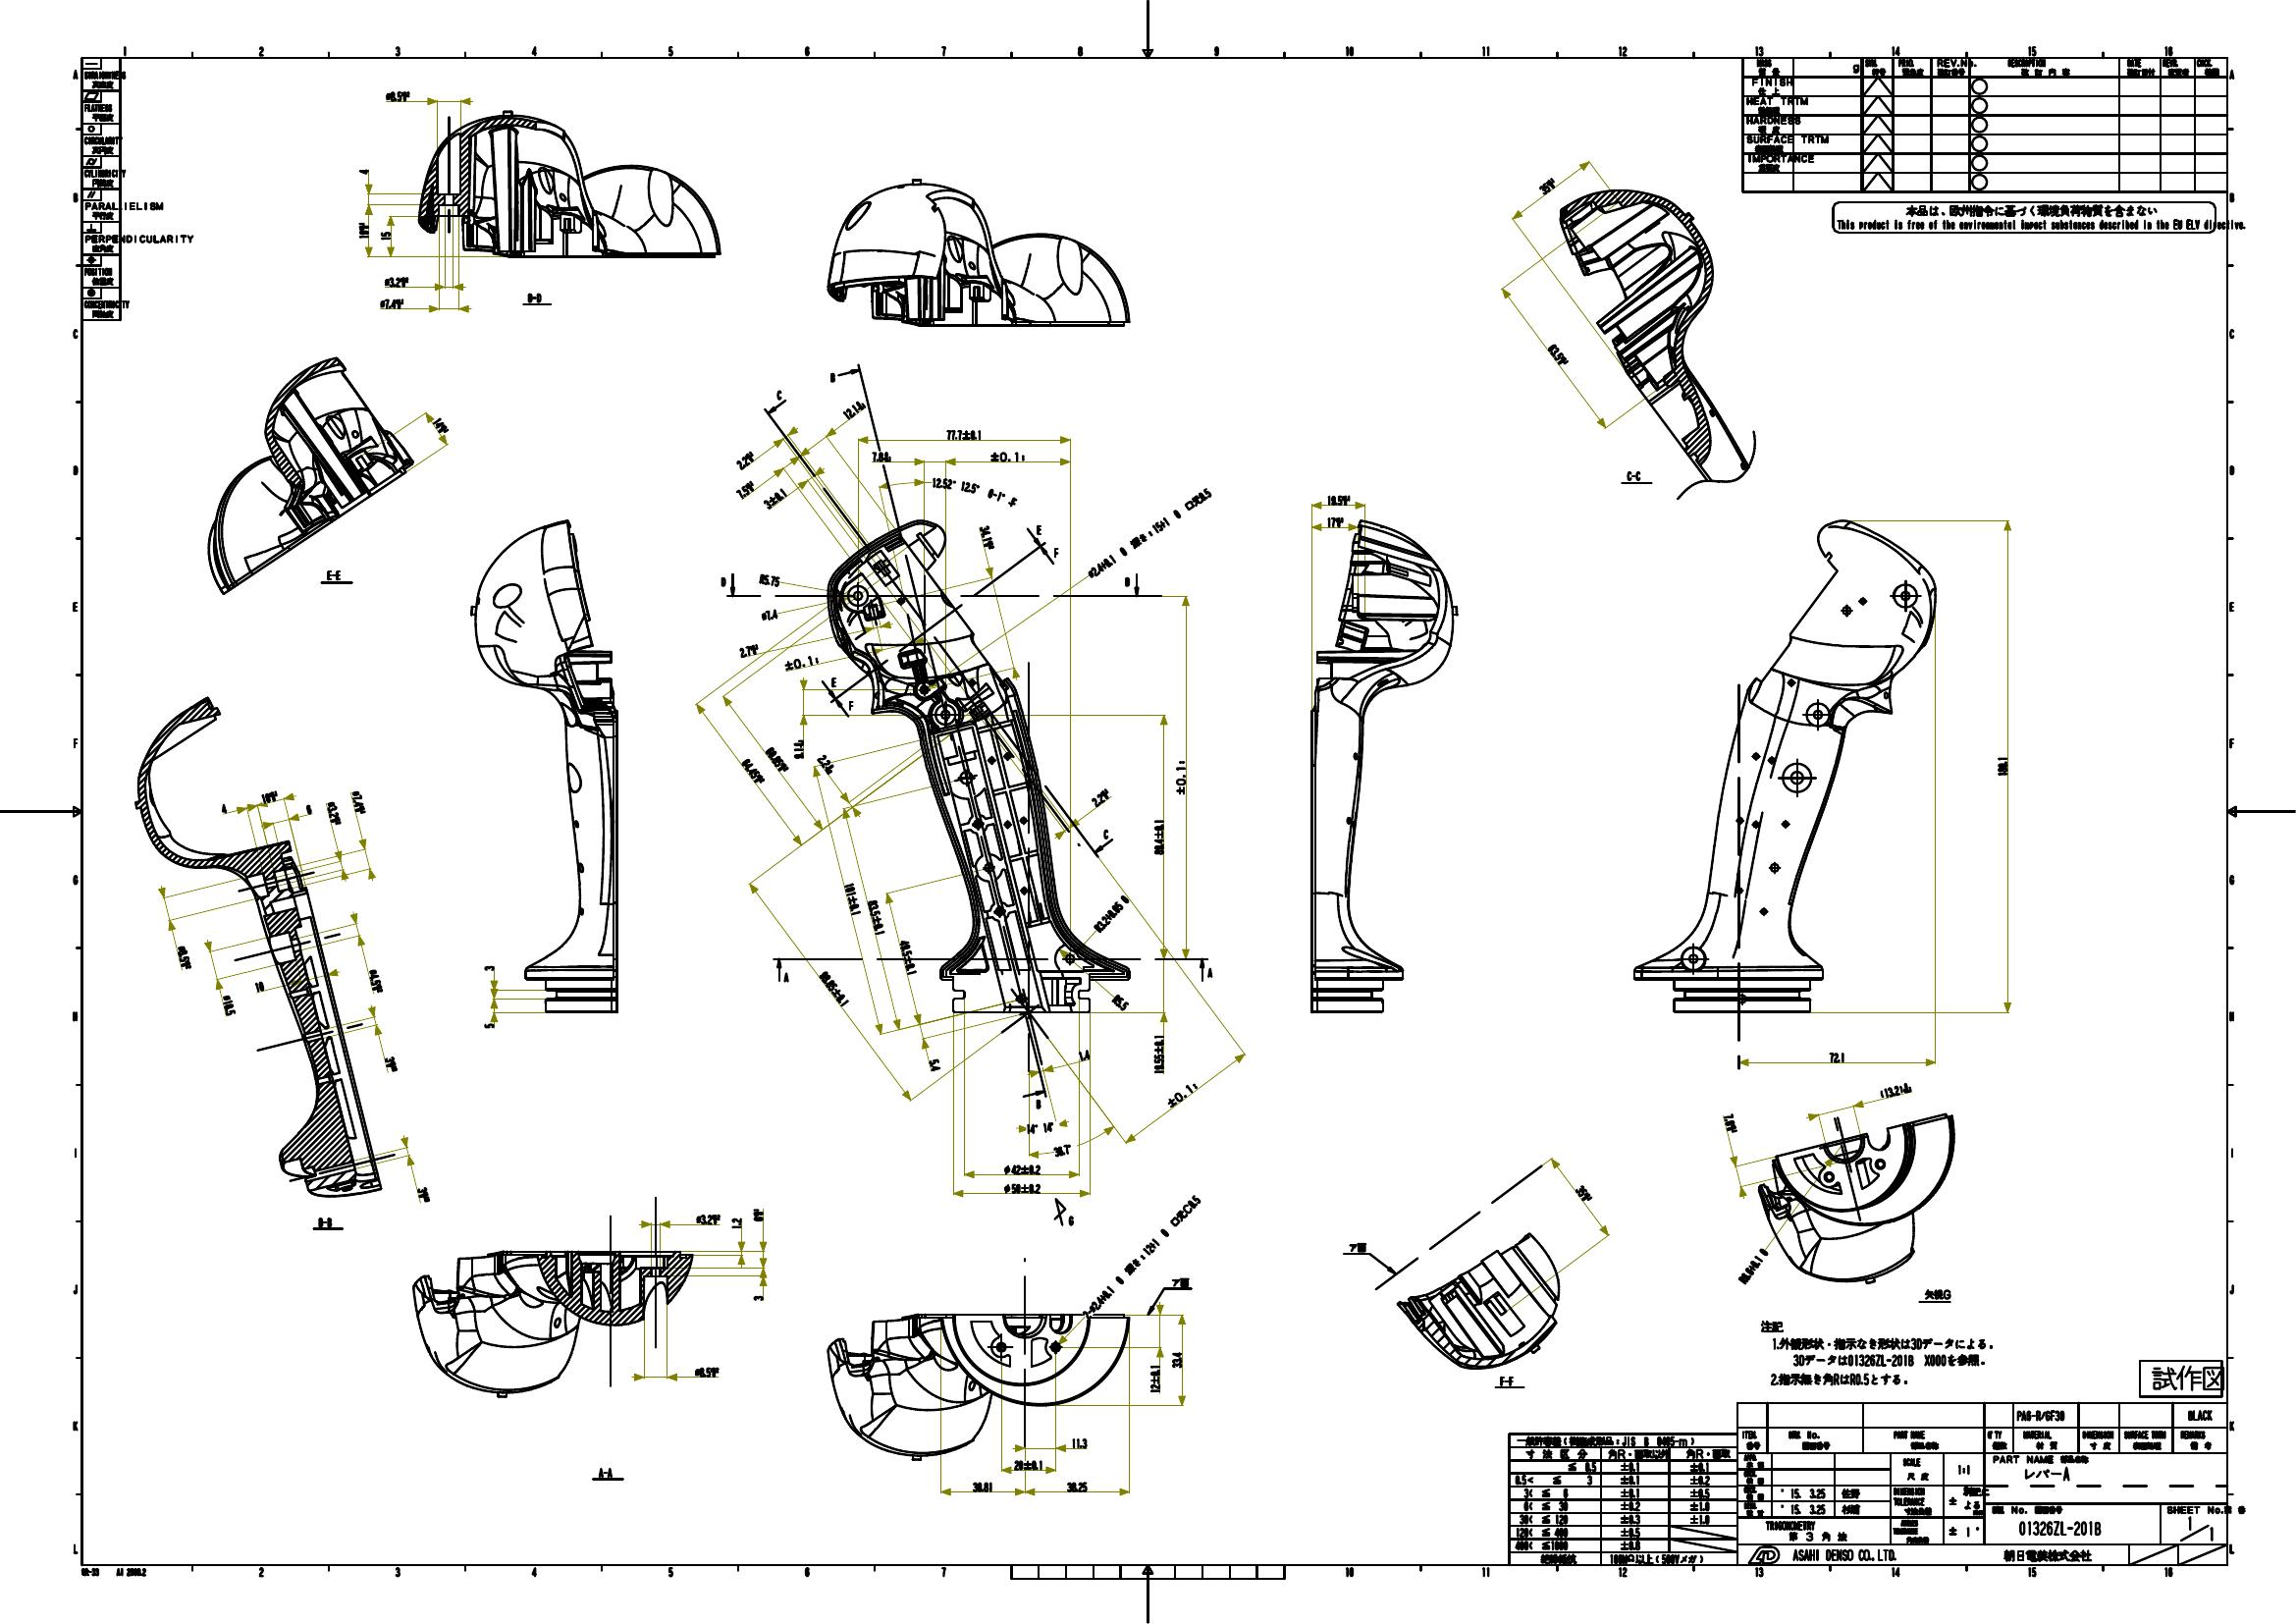anntotation_text: (1757, 1315, 1996, 1394), (1832, 200, 2215, 232), (2140, 1360, 2224, 1397), (79, 1564, 148, 1577), (1924, 1288, 1952, 1299), (523, 290, 546, 302), (314, 1216, 336, 1229), (323, 568, 343, 580), (1623, 469, 1643, 482), (1347, 1241, 1368, 1251), (1170, 1276, 1191, 1287), (597, 1466, 615, 1478), (1497, 1376, 1518, 1385), (717, 575, 729, 589), (1100, 826, 1112, 840), (827, 371, 838, 383), (827, 675, 838, 687), (1036, 522, 1043, 538), (775, 388, 783, 401), (1123, 576, 1131, 589), (845, 698, 854, 710), (1033, 1098, 1042, 1111), (1207, 967, 1214, 981), (782, 972, 791, 982), (1054, 547, 1059, 559)
dimension_text: (1075, 526, 1224, 540), (1058, 1251, 1224, 1262), (929, 482, 1019, 497), (1003, 1160, 1042, 1174), (1151, 816, 1163, 859), (1151, 1032, 1163, 1076), (1087, 907, 1137, 917), (833, 893, 873, 905), (856, 910, 896, 923), (1003, 1181, 1042, 1193), (1173, 759, 1186, 798), (1163, 1086, 1200, 1098), (989, 450, 1026, 462), (783, 656, 820, 668), (887, 951, 929, 961), (1874, 1084, 1917, 1095), (808, 984, 856, 993), (761, 752, 794, 765), (1730, 1262, 1776, 1271), (945, 429, 982, 439), (385, 88, 411, 102), (1325, 492, 1351, 506), (980, 524, 994, 550), (736, 765, 769, 775), (1546, 348, 1574, 360), (1063, 1480, 1091, 1492), (696, 1213, 722, 1225), (223, 993, 235, 1019), (1026, 1123, 1056, 1134), (1014, 1459, 1043, 1469), (1723, 1109, 1736, 1134), (179, 942, 190, 970), (353, 789, 364, 817), (761, 492, 789, 503), (840, 404, 868, 415), (383, 276, 409, 286), (378, 297, 404, 308), (371, 967, 381, 993), (329, 800, 339, 826), (1070, 1436, 1089, 1450), (761, 573, 780, 587), (1149, 1364, 1158, 1394), (1051, 1144, 1072, 1156), (430, 420, 451, 432), (1996, 756, 2008, 777), (1572, 1186, 1593, 1199), (733, 455, 757, 466), (694, 1367, 722, 1376), (416, 1185, 430, 1202), (1535, 181, 1558, 192), (970, 1480, 993, 1490), (734, 483, 757, 494), (792, 740, 805, 759), (1087, 793, 1114, 801), (815, 759, 836, 770), (1827, 1051, 1846, 1062), (871, 450, 891, 460), (738, 647, 761, 656), (1112, 998, 1130, 1009), (262, 791, 279, 801), (759, 612, 780, 620), (385, 1056, 397, 1070), (1325, 517, 1344, 526), (1172, 1350, 1180, 1369), (926, 1058, 942, 1069), (357, 221, 367, 237), (255, 979, 265, 995), (752, 1207, 762, 1222), (1079, 1049, 1091, 1060), (731, 1218, 743, 1229), (220, 801, 230, 814), (355, 165, 369, 174), (1066, 1216, 1077, 1227), (379, 230, 390, 241), (754, 1292, 764, 1302), (304, 805, 314, 816), (483, 965, 495, 972), (481, 1023, 495, 1028)
object: (1632, 520, 1936, 1012), (827, 518, 1130, 1012), (135, 696, 383, 1195), (1309, 518, 1458, 1012), (471, 518, 617, 1012), (1558, 190, 1755, 499), (207, 357, 413, 596), (827, 178, 1130, 327), (827, 1313, 1130, 1461), (418, 111, 720, 257), (413, 1250, 694, 1396), (1757, 1111, 1955, 1283), (1397, 1230, 1558, 1369)
title_block: (1507, 1403, 2227, 1564), (1743, 56, 2226, 192), (81, 56, 121, 322)
